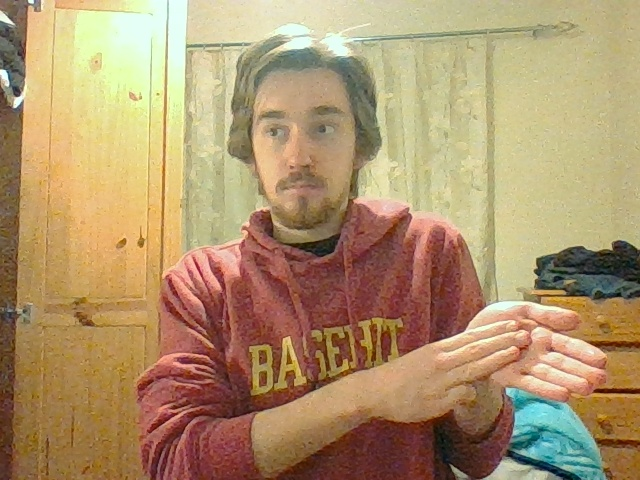mother: (460, 300, 607, 401)
